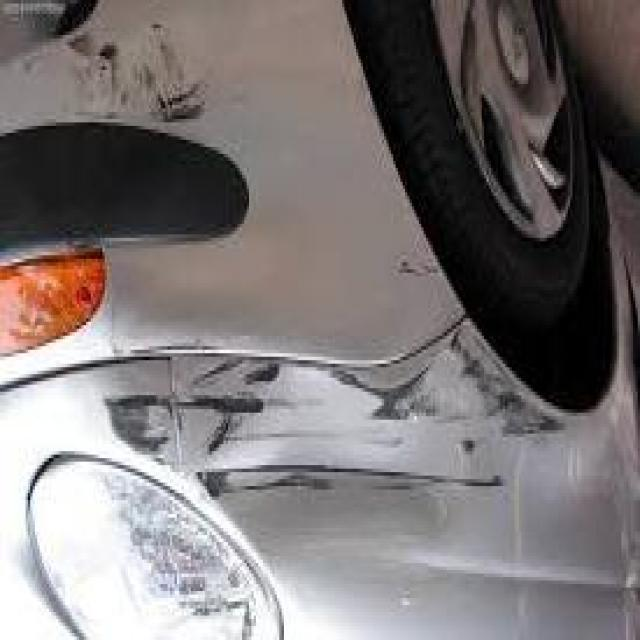scratch: (98, 326, 582, 520), (36, 10, 211, 140)
